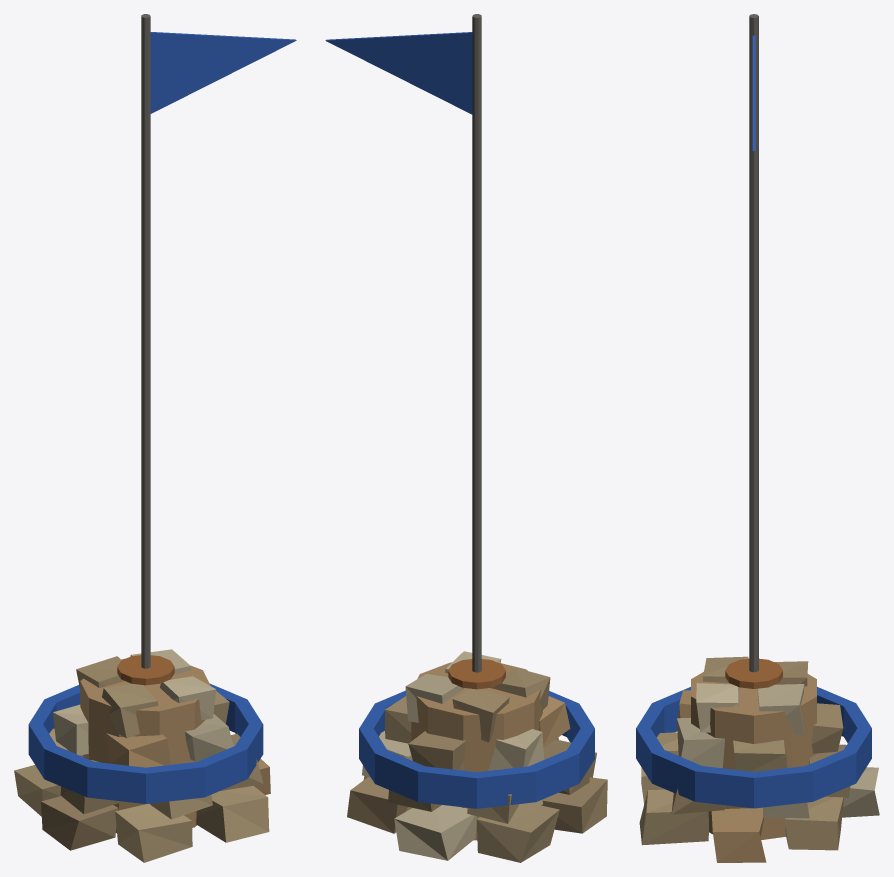
Rendered from dam_survey_gate_blue.glb.
The picture shows the model from 3 angles, left to right: view 1: azimuth 30°, elevation 25°; view 2: azimuth 150°, elevation 25°; view 3: azimuth 270°, elevation 25°; orthographic projection.
Visible parts, largest first — view 1: dam_survey_gate_blue; view 2: dam_survey_gate_blue; view 3: dam_survey_gate_blue.
Boxes of the visible parts, x1,y1,x2,y2 form: dam_survey_gate_blue: (14,14,296,862); dam_survey_gate_blue: (325,14,607,862); dam_survey_gate_blue: (636,14,879,862).
Bounding box in the file's own units: 2.46 × 7.31 × 2.03.
